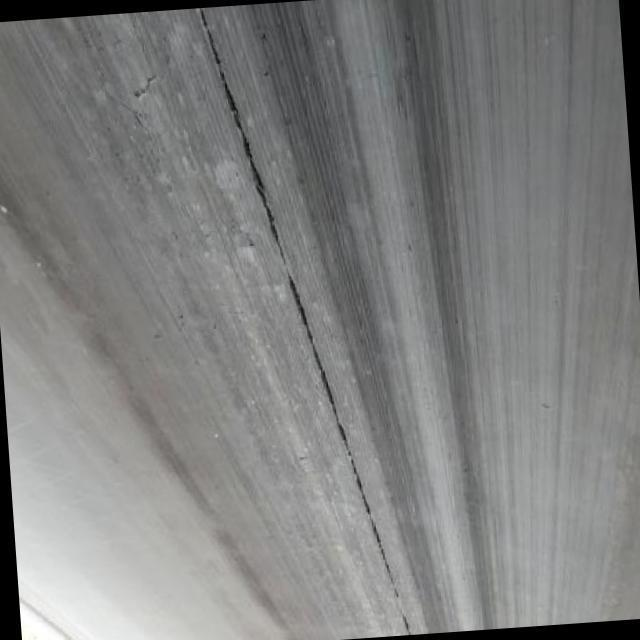Tear: (197, 3, 415, 640)
